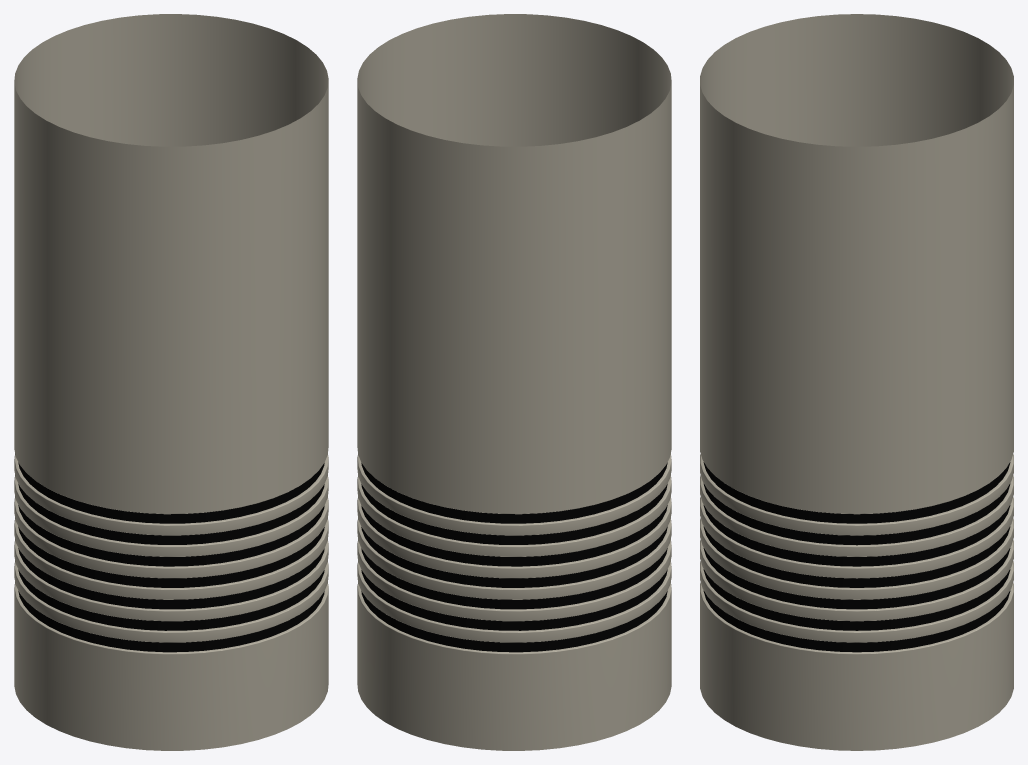
Rendered from Info Pillar.fbx.
3 views of the same model, side by side, from view 1: azimuth 30°, elevation 25°; view 2: azimuth 150°, elevation 25°; view 3: azimuth 270°, elevation 25° (orthographic).
Parts seen in each view (by area): view 1: polySurface52; view 2: polySurface52; view 3: polySurface52.
Boxes of the visible parts, box(x1,y1,x2,y2) form: polySurface52: box(14, 14, 328, 750); polySurface52: box(357, 14, 671, 750); polySurface52: box(700, 14, 1013, 750).
Size of the model in its own units: 167 by 355 by 167.
